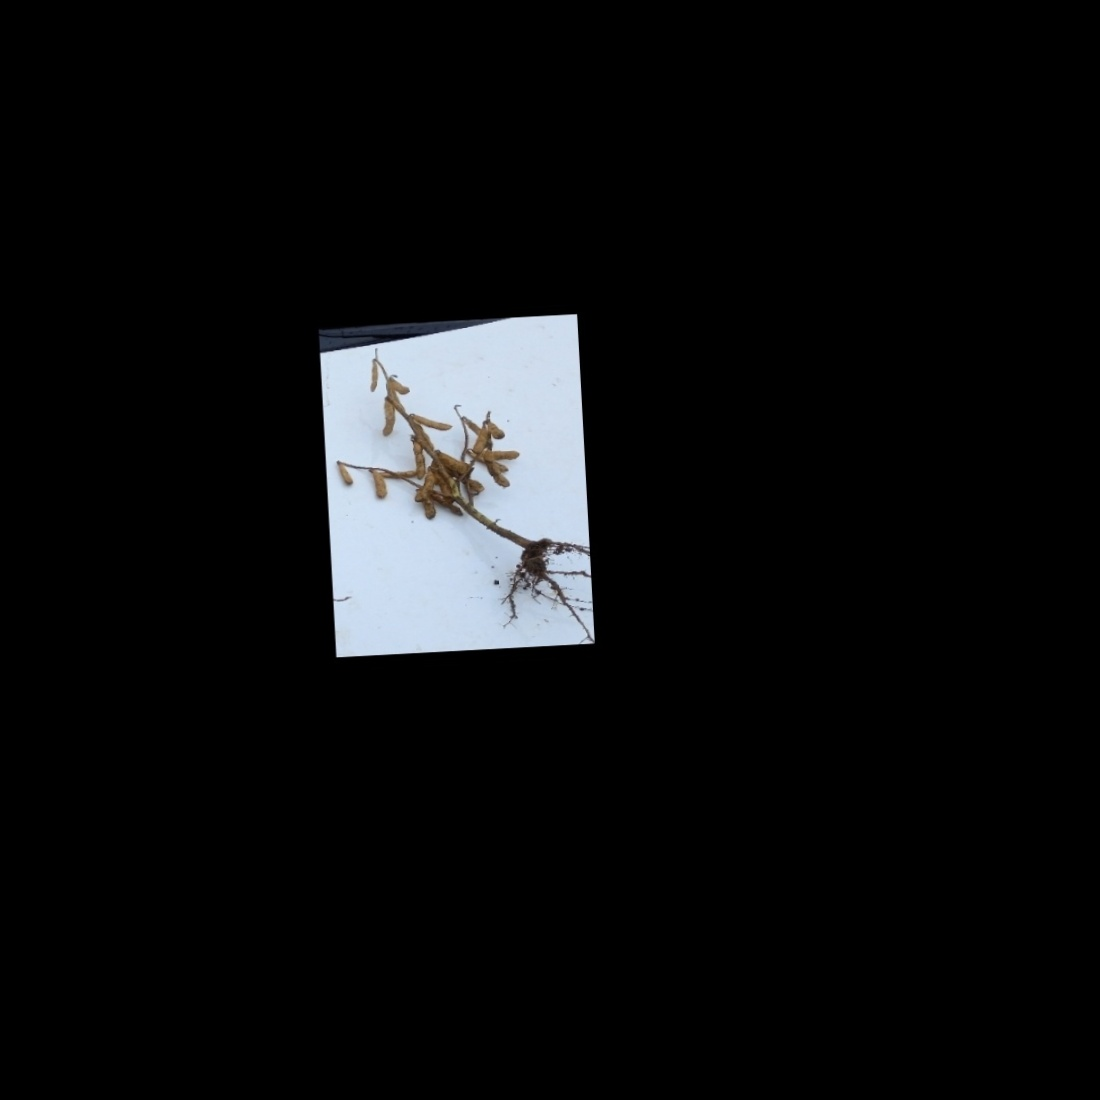pod: (411, 407, 452, 433), (368, 470, 388, 503), (380, 400, 396, 439), (411, 441, 425, 482), (488, 417, 508, 443), (364, 360, 379, 394), (390, 372, 412, 395), (337, 463, 356, 492)
soy: (325, 336, 585, 613)
